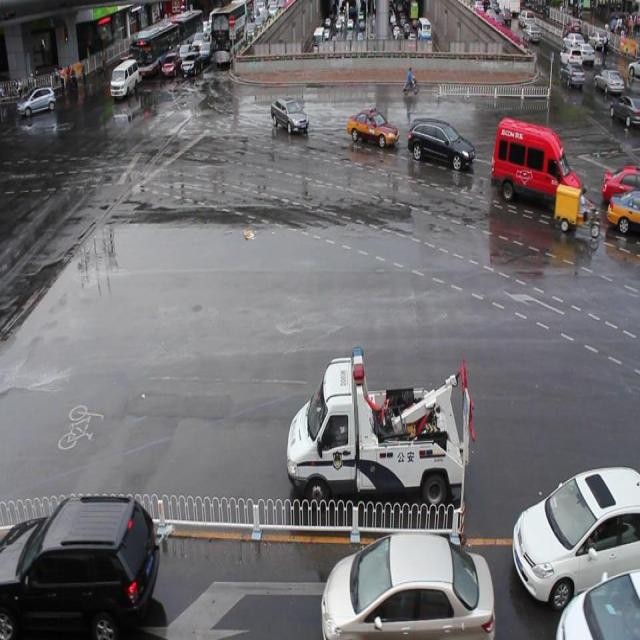bus: (287, 344, 475, 513)
car: (0, 493, 158, 640), (321, 531, 494, 640), (512, 463, 640, 604), (552, 569, 640, 640), (408, 116, 474, 170), (347, 105, 398, 145), (602, 159, 640, 202), (606, 186, 640, 231), (271, 95, 308, 135)
truck: (490, 113, 580, 213)
